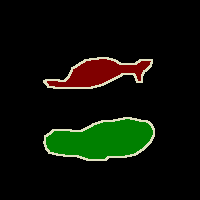shoe: (44, 118, 154, 160), (44, 58, 152, 88)
